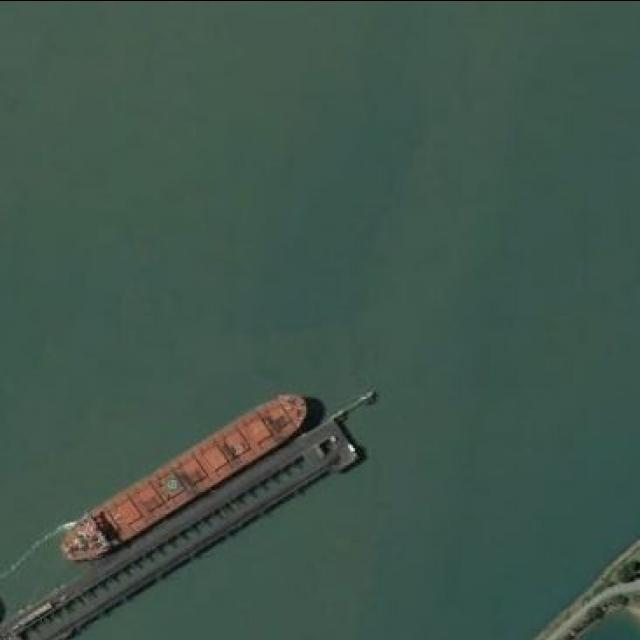ship: (58, 393, 310, 564)
